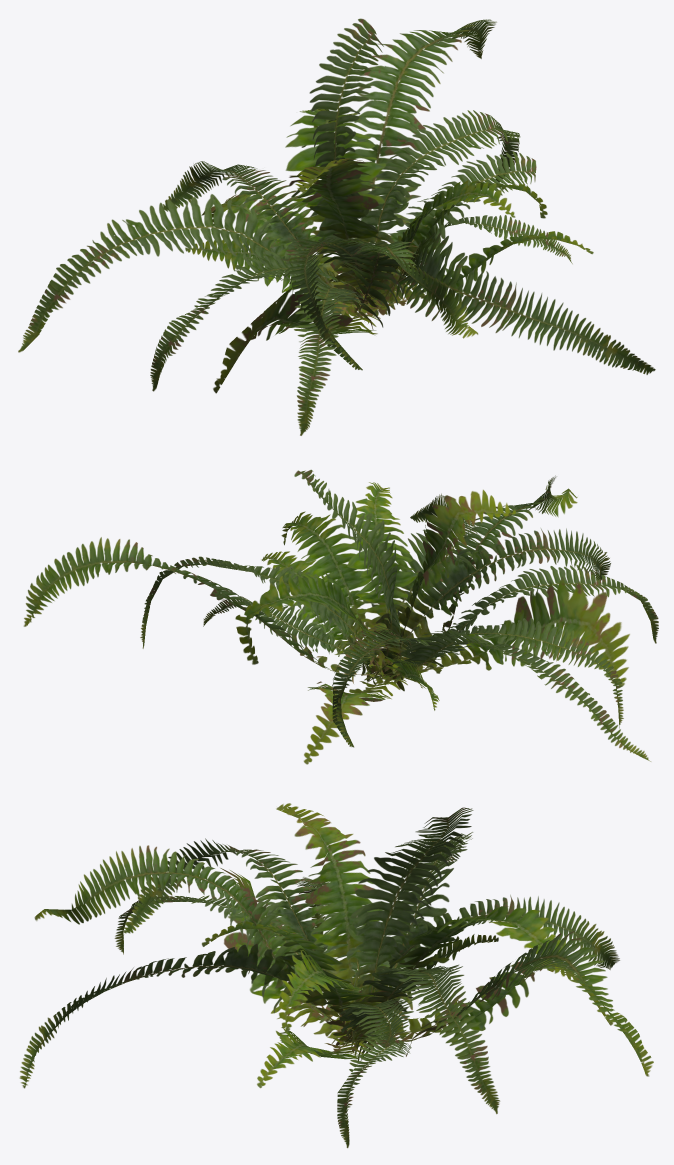
File: fern.glb
3 renders of one model, top to bottom at view 1: azimuth 30°, elevation 25°; view 2: azimuth 150°, elevation 25°; view 3: azimuth 270°, elevation 25°, orthographic. The views are drawn at different scales.
Visible parts, largest first — view 1: mx_fern; view 2: mx_fern; view 3: mx_fern.
Boxes of the visible parts, x1=… form: mx_fern: x1=18, y1=18, x2=655, y2=435; mx_fern: x1=23, y1=469, x2=658, y2=764; mx_fern: x1=19, y1=803, x2=653, y2=1148.
Size of the model in its own units: 0.9897 by 0.4277 by 0.8937.
Materials: 1 (1 with a texture image).
